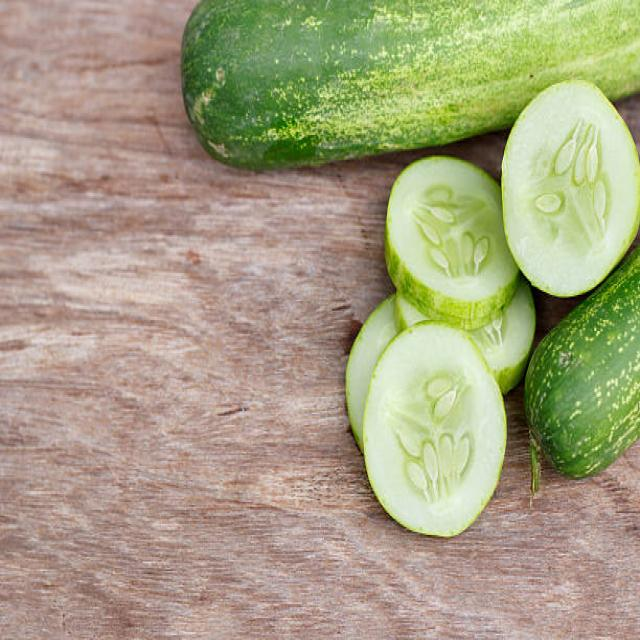cucumber: (183, 0, 640, 174)
